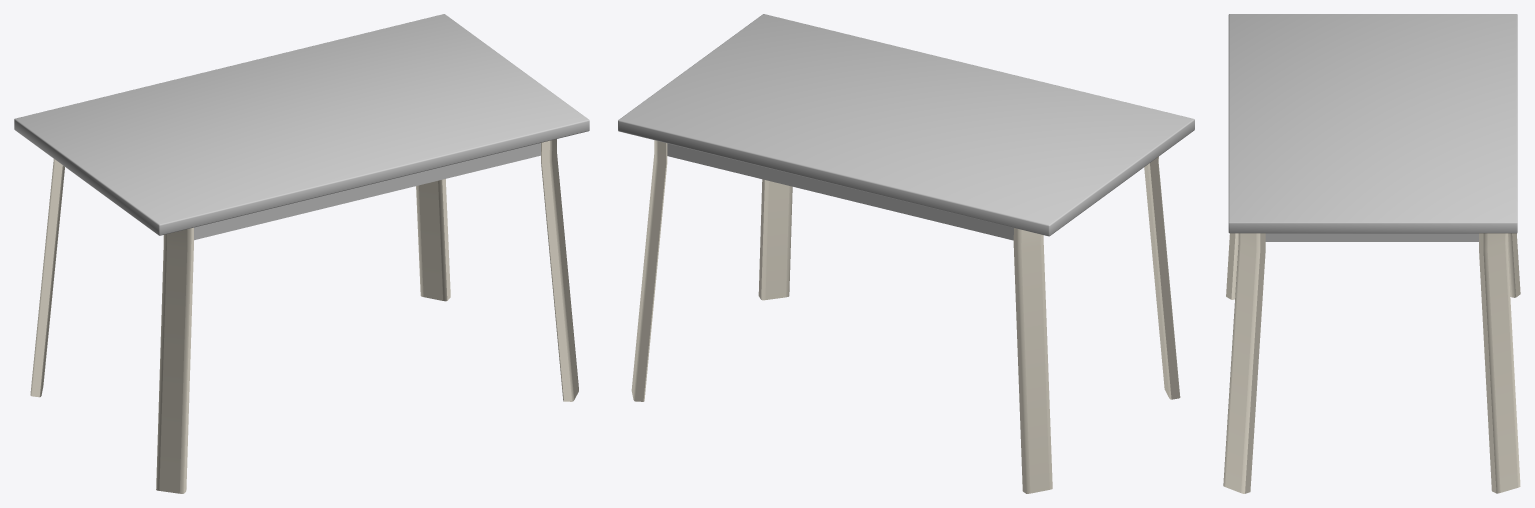
Rendered from sarımsı.gltf.
The picture shows the model from 3 angles, left to right: view 1: azimuth 30°, elevation 25°; view 2: azimuth 150°, elevation 25°; view 3: azimuth 270°, elevation 25°; orthographic projection.
Parts seen in each view (by area): view 1: Leg:3; view 2: Leg:3; view 3: Leg:3.
Part boxes in pixels (x1,y1,x2,y2): Leg:3: [14, 14, 589, 493]; Leg:3: [618, 14, 1194, 493]; Leg:3: [1223, 14, 1520, 493].
Size of the model in its own units: 3.09 by 1.89 by 1.86.
